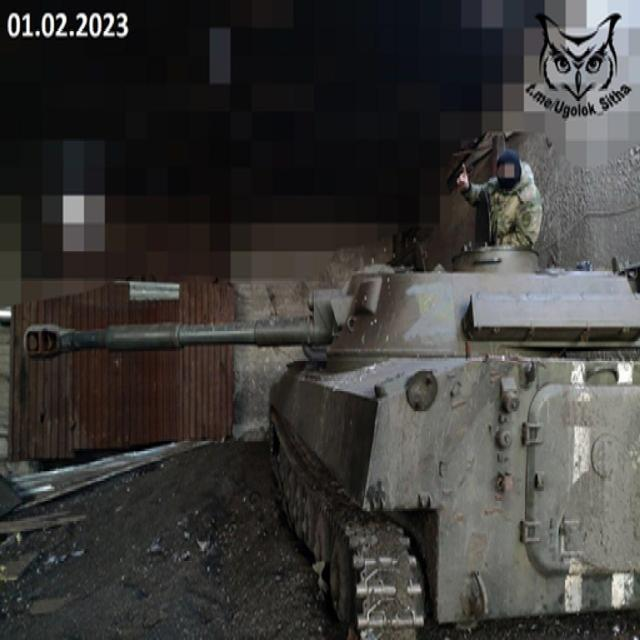ART: (21, 260, 639, 640)
